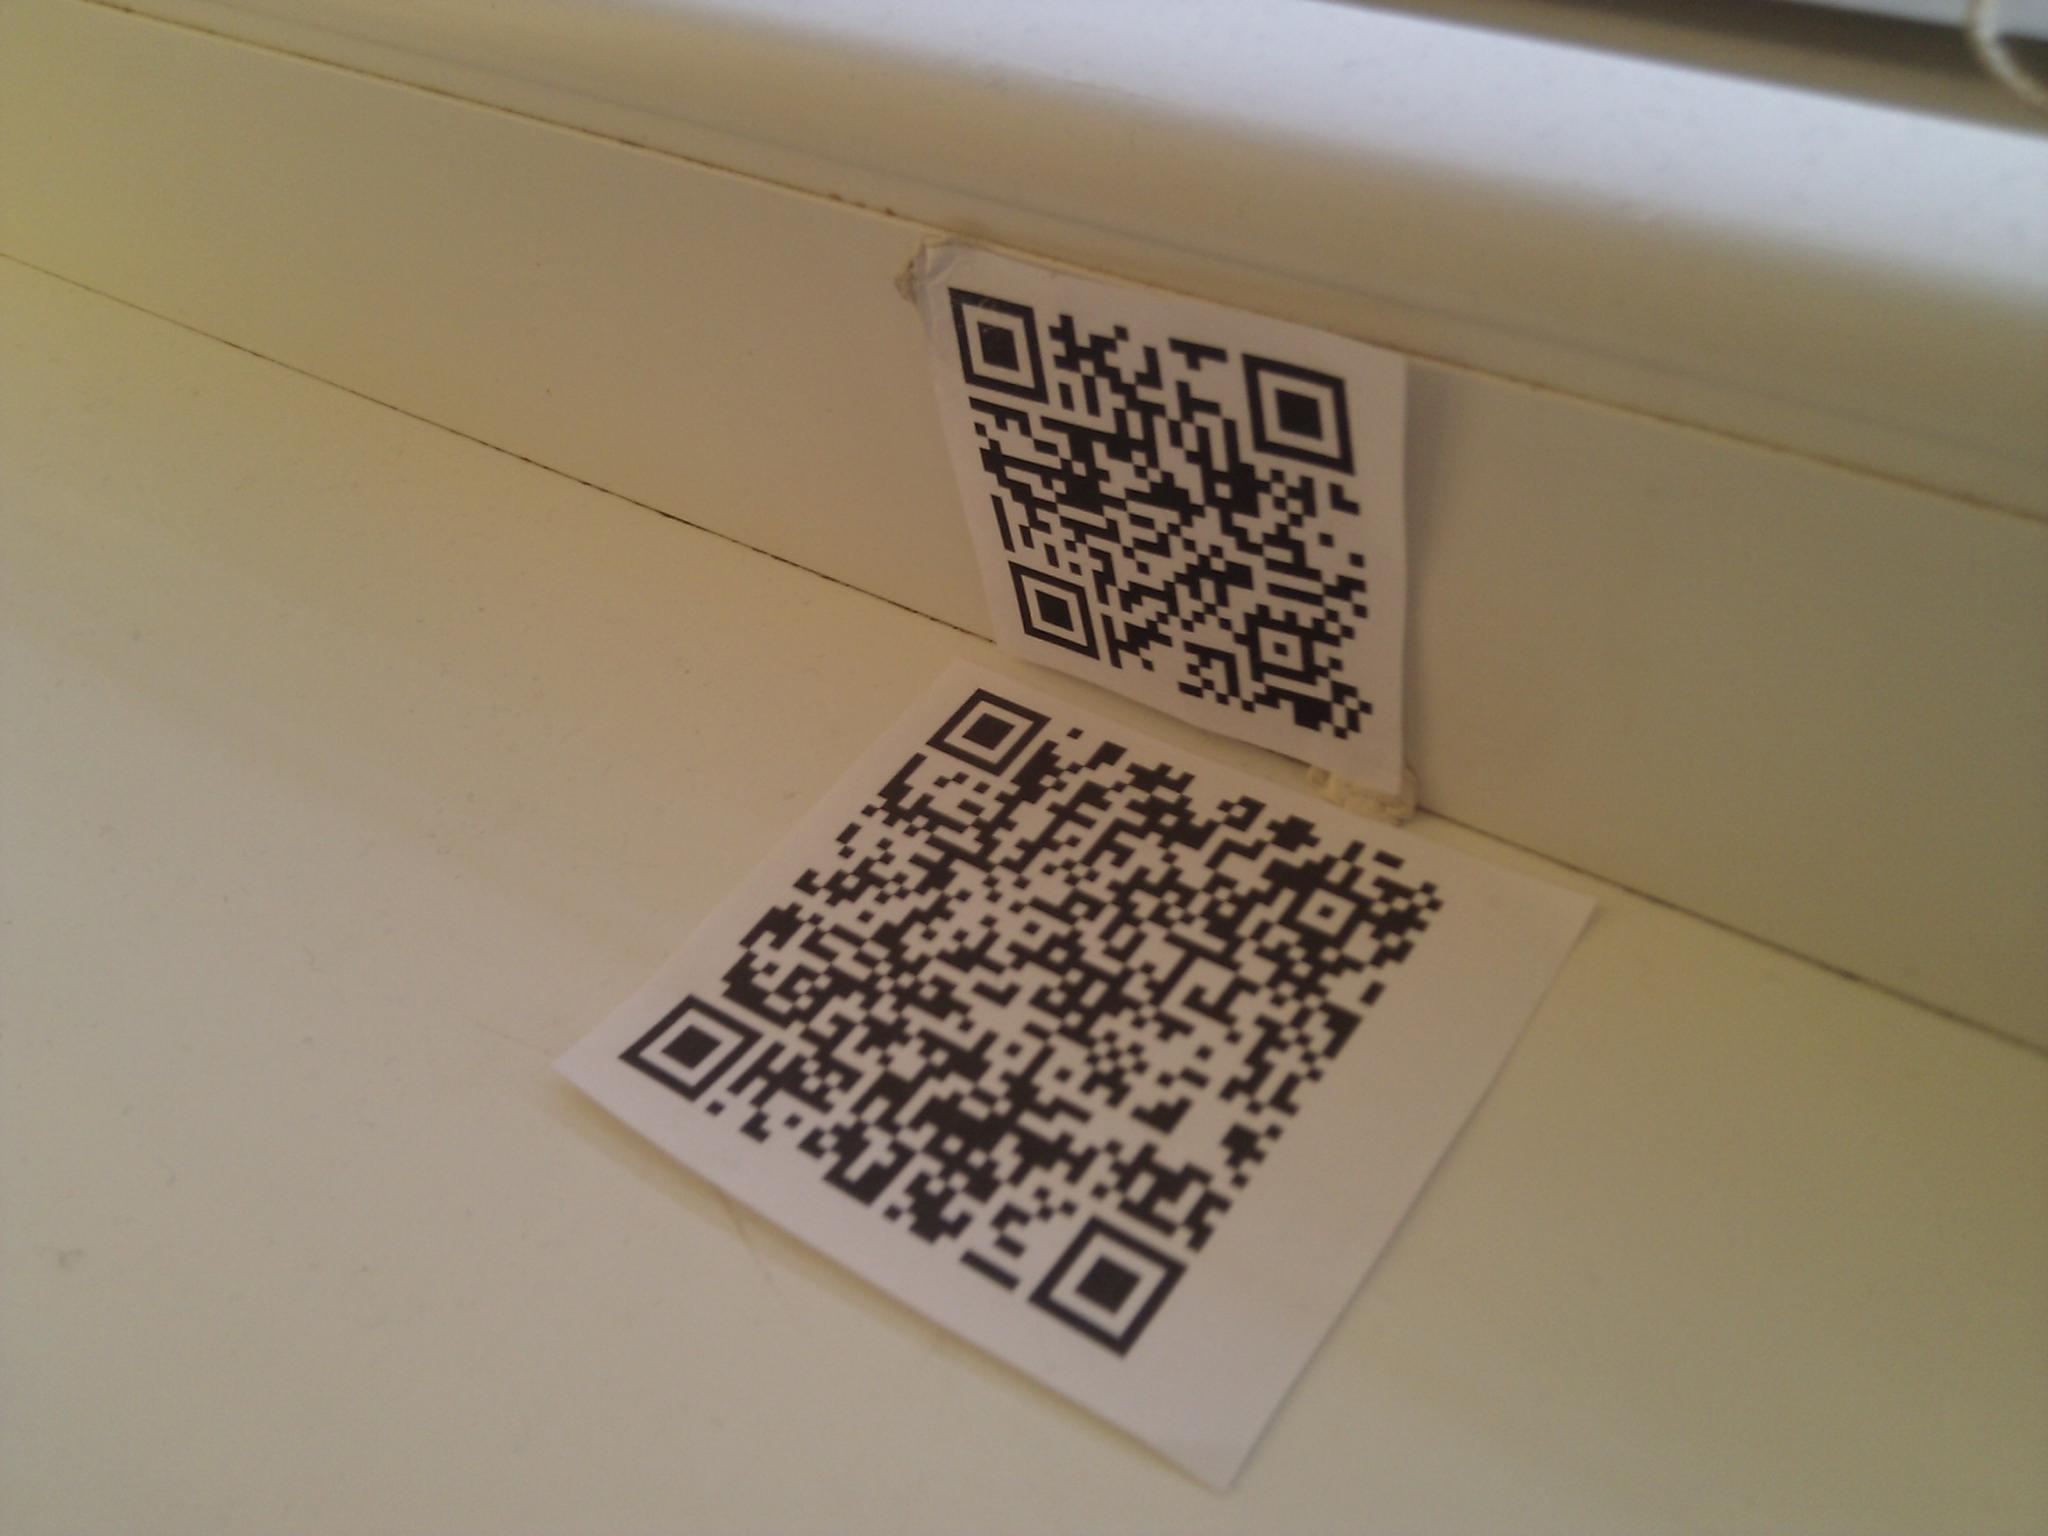Finder pattern: (1034, 1217, 1193, 1350), (622, 994, 763, 1105), (1243, 349, 1359, 479), (945, 286, 1056, 410), (927, 691, 1056, 778), (1013, 552, 1113, 660)
